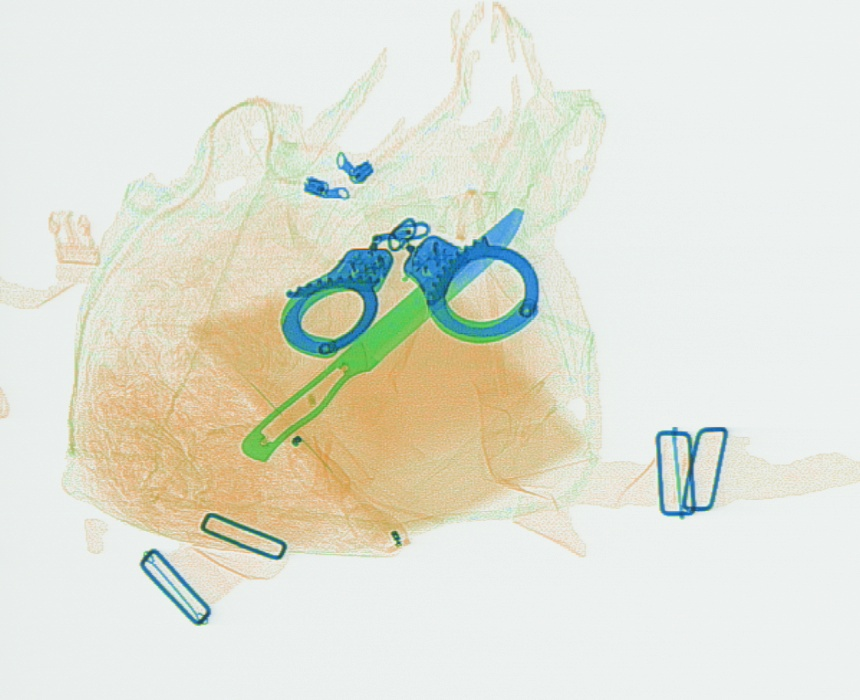handcuffs: (277, 214, 540, 358)
knife: (239, 206, 524, 463)
